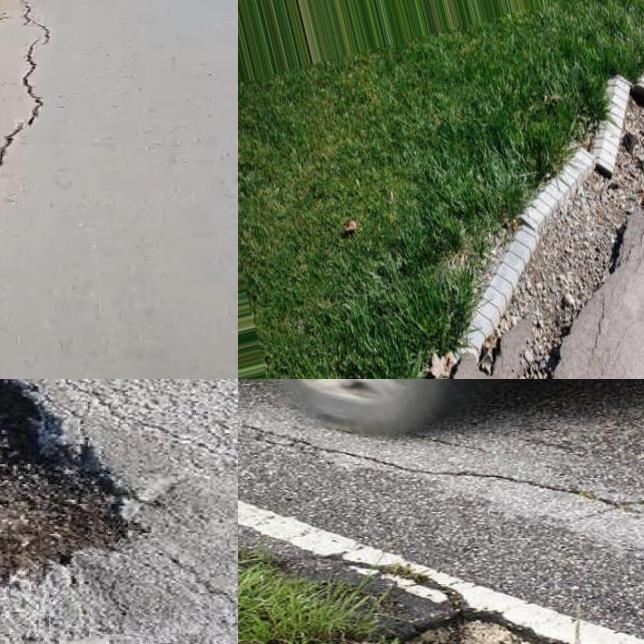Lubang: (0, 379, 129, 580)
Memanjang: (0, 0, 60, 197)
Pinggir: (401, 43, 644, 379)
